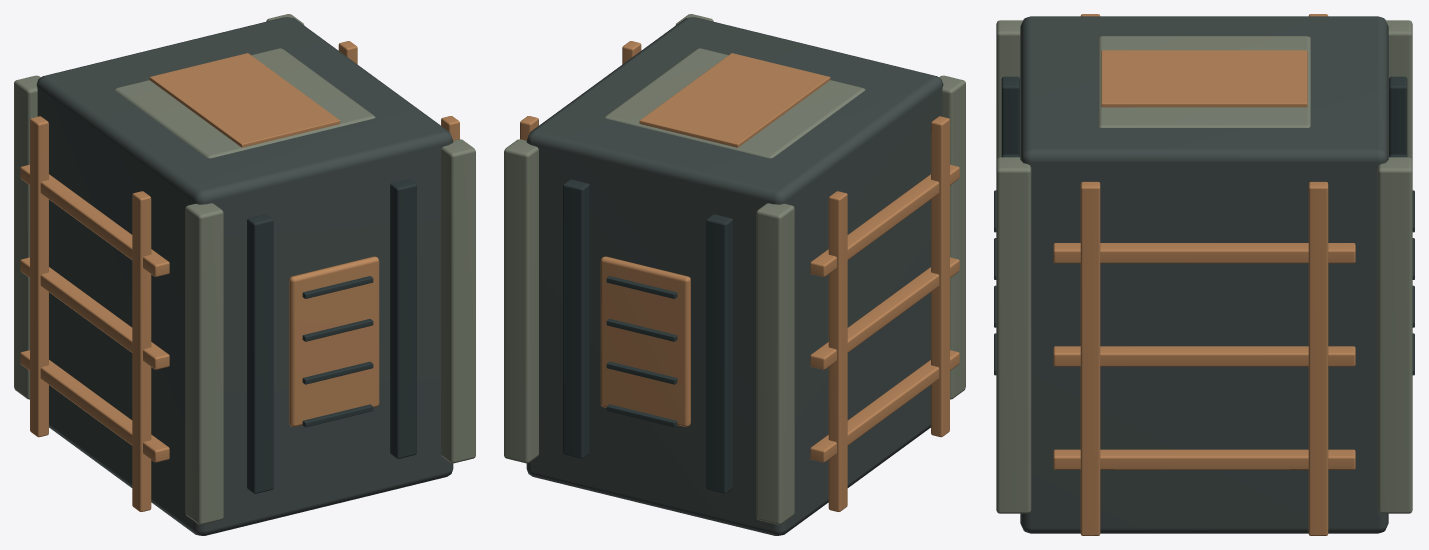
File: relay-top-0.glb
3 renders of one model, left to right at view 1: azimuth 30°, elevation 25°; view 2: azimuth 150°, elevation 25°; view 3: azimuth 270°, elevation 25°, orthographic. The views are drawn at different scales.
Visible parts, largest first — view 1: relay_0, relay_3, relay_1, relay_2; view 2: relay_0, relay_3, relay_1, relay_2; view 3: relay_0, relay_3, relay_1, relay_2.
Part boxes in pixels (bbox=[...]): relay_0: bbox=[36, 17, 453, 535]; relay_3: bbox=[20, 41, 459, 511]; relay_1: bbox=[14, 14, 475, 524]; relay_2: bbox=[247, 179, 416, 493]; relay_0: bbox=[526, 17, 943, 535]; relay_3: bbox=[520, 41, 959, 511]; relay_1: bbox=[504, 14, 965, 524]; relay_2: bbox=[563, 179, 732, 493]; relay_0: bbox=[1020, 16, 1388, 533]; relay_3: bbox=[1053, 14, 1355, 535]; relay_1: bbox=[996, 20, 1412, 513]; relay_2: bbox=[994, 76, 1414, 375].
Size of the model in its own units: 0.94 by 0.984 by 0.96.
